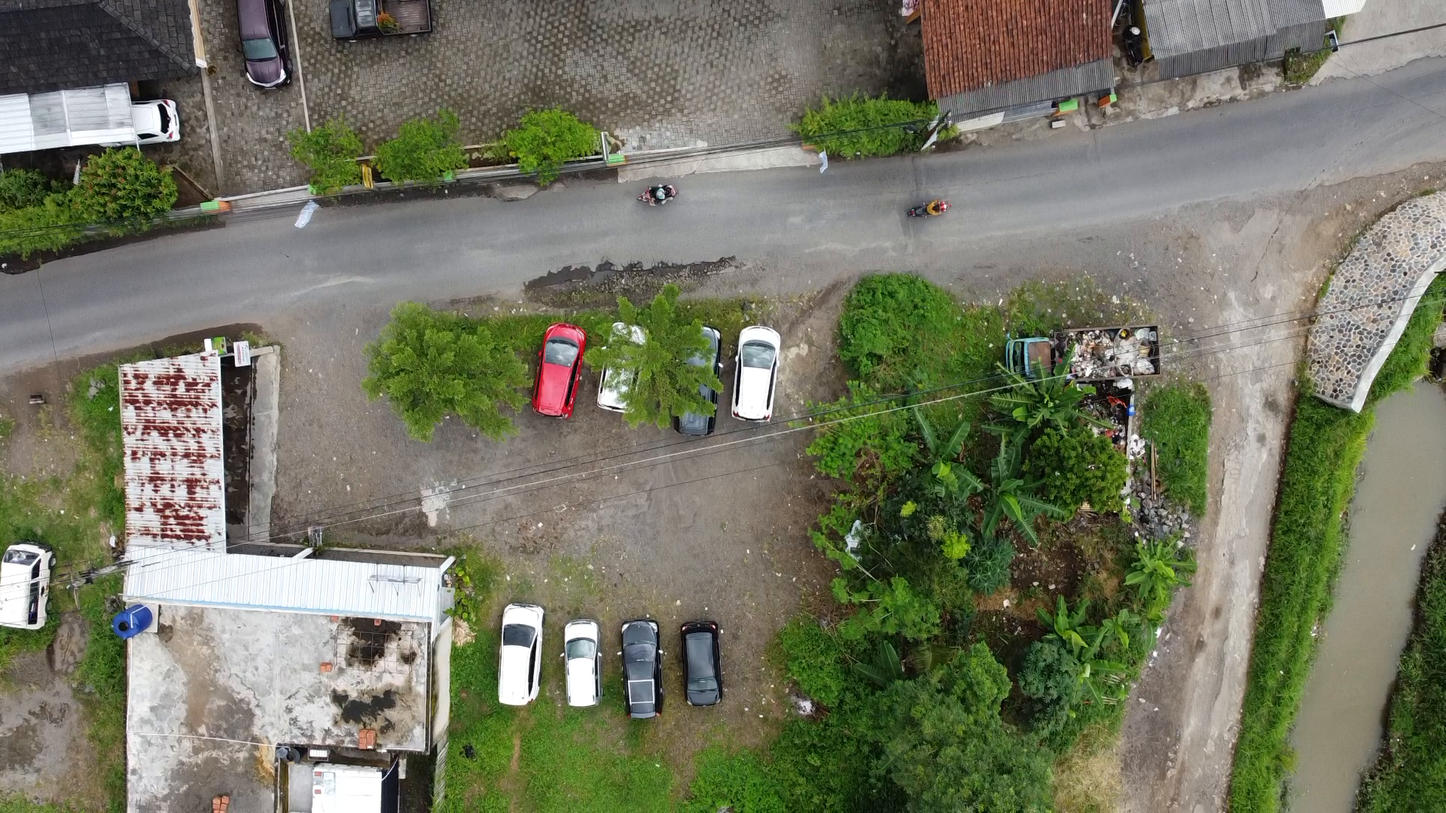mobil: (213, 13, 316, 99), (666, 314, 730, 436), (493, 595, 551, 717), (301, 1, 468, 41), (2, 536, 61, 642), (559, 607, 610, 720), (732, 313, 778, 431), (672, 615, 728, 710), (621, 611, 664, 725), (605, 308, 651, 413), (537, 315, 579, 417), (123, 99, 191, 149)
